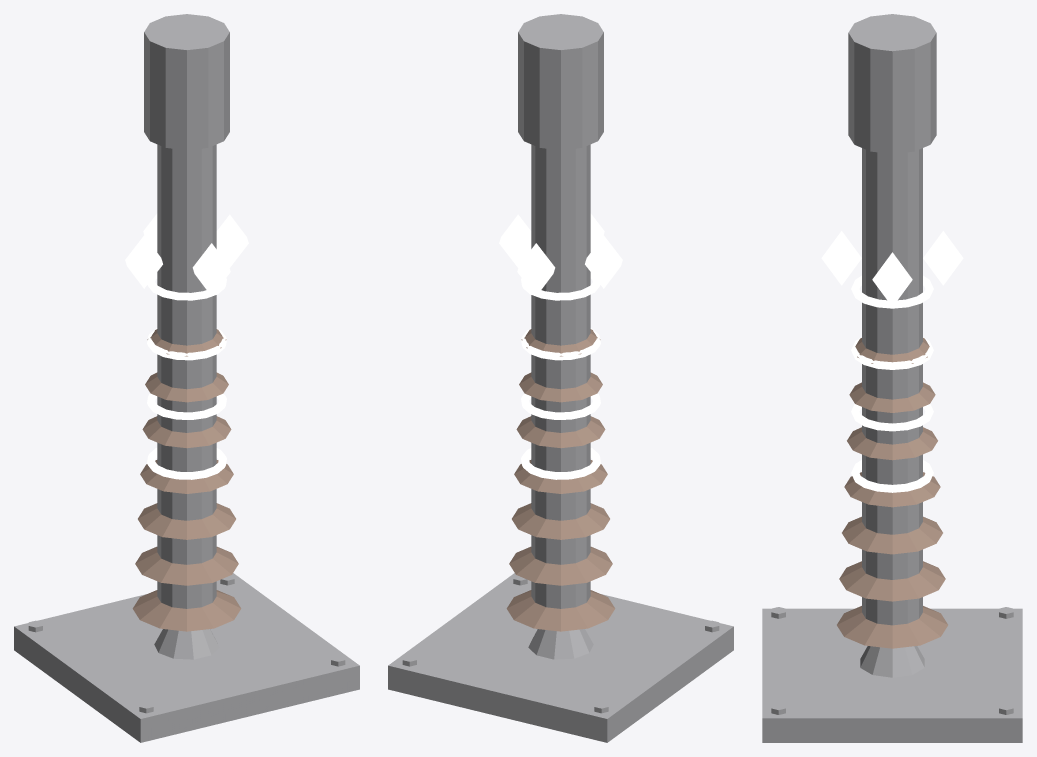
File: drill_bit_legendary.glb
The picture shows the model from 3 angles, left to right: view 1: azimuth 30°, elevation 25°; view 2: azimuth 150°, elevation 25°; view 3: azimuth 270°, elevation 25°; orthographic projection. The views are drawn at different scales.
Parts seen in each view (by area): view 1: drill_bit; view 2: drill_bit; view 3: drill_bit.
Part boxes in pixels (x1,y1,x2,y2): drill_bit: (14,14,359,742); drill_bit: (388,14,733,742); drill_bit: (762,14,1022,742).
Bounding box in the file's own units: 1.54 × 4.27 × 1.54.
